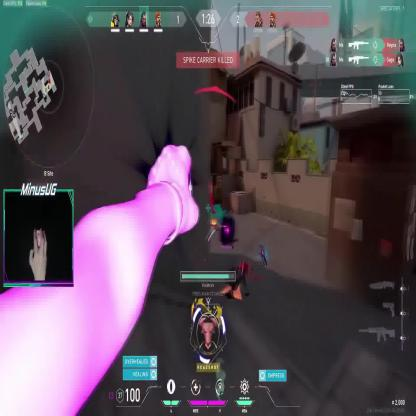enemy: (204, 178, 217, 214)
enemy_head: (207, 178, 212, 184)
